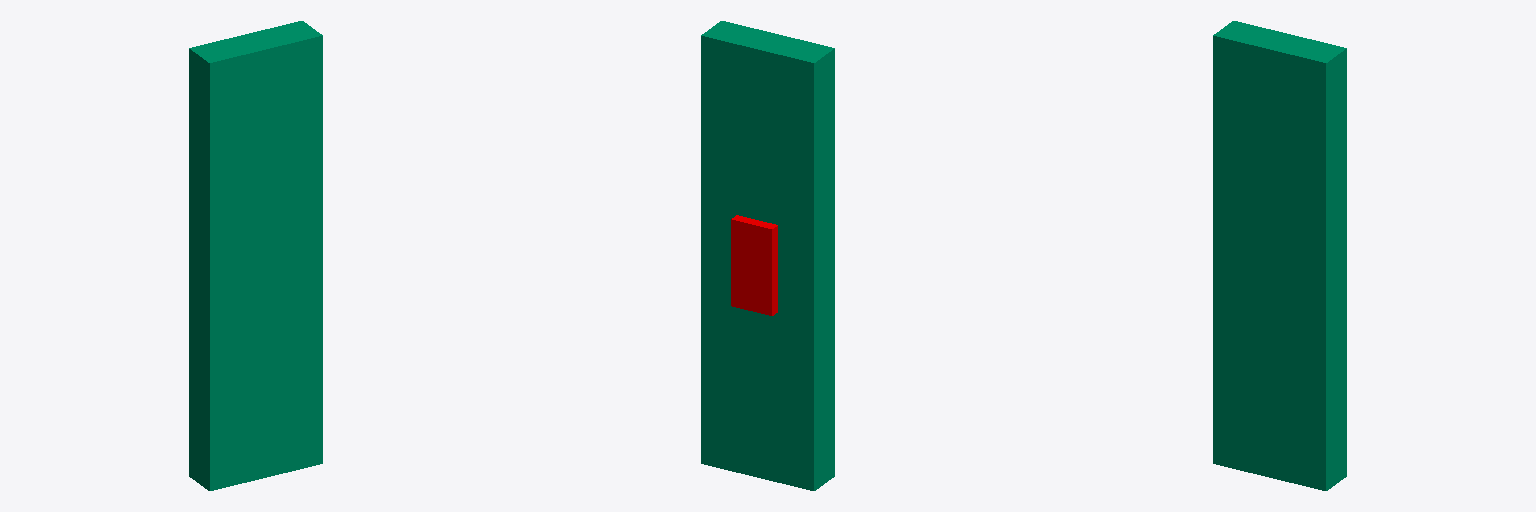
robot.urdf — knife:
<?xml version='1.0' encoding='utf-8'?>
<robot name="knife">
  <link name="base" /><joint name="joint_0" type="fixed"><origin xyz="0 0 0" rpy="0 0 0" /><parent link="base" /><child link="link_0" /></joint><link name="link_1">
    <visual name="link_1">
      <origin xyz="0 0.006153 0" rpy="0 0 0" />
      <geometry>
        <box size="0.011090360632271375 0.0027319182818749594 0.022226056067114128" /></geometry>
    <material name="red"><color rgba="1 0 0 1" /></material></visual>
    <collision>
      <origin xyz="0 0.006153 0" rpy="0 0 0" />
      <geometry>
        <box size="0.011090360632271375 0.0027319182818749594 0.022226056067114128" /></geometry>
    </collision>
    </link>
  <joint name="joint_1" type="prismatic">
    <origin xyz="0 0 0" />
    <axis xyz="0 0 1" />
    <child link="link_1" />
    <parent link="link_0" />
    <limit lower="-0.027524" upper="0.022476" effort="100.0" velocity="1.0" />
  </joint>
  <link name="link_0">
    <visual name="link_0">
      <origin xyz="0 0 0" />
      <geometry>
        <box size="0.030383098986085617 0.009574679052654283 0.10954092558078055" /></geometry>
    </visual>
    <collision>
      <origin xyz="0 0 0" />
      <geometry>
        <box size="0.030383098986085617 0.009574679052654283 0.10954092558078055" /></geometry>
    </collision>
    </link>
</robot>

--- Render facts (derived) ---
3 views of the same robot in one strip: view 1: azimuth 30°, elevation 25°; view 2: azimuth 150°, elevation 25°; view 3: azimuth 330°, elevation 25° (orthographic).
Model knife with 3 links and 2 joints (1 prismatic, 1 fixed), rooted at base, posed every joint at zero.
Visible links, largest first — view 1: link_0; view 2: link_0, link_1; view 3: link_0.
Boxes of the visible links, box(x1,y1,x2,y2) form: link_0: box(189, 21, 322, 490); link_0: box(701, 21, 834, 490); link_1: box(731, 215, 777, 315); link_0: box(1213, 21, 1346, 490).
Size in the robot's own frame: 0.0304 by 0.0123 by 0.1095 metres.
Geometry: primitives only (box / cylinder / sphere), no mesh files.
